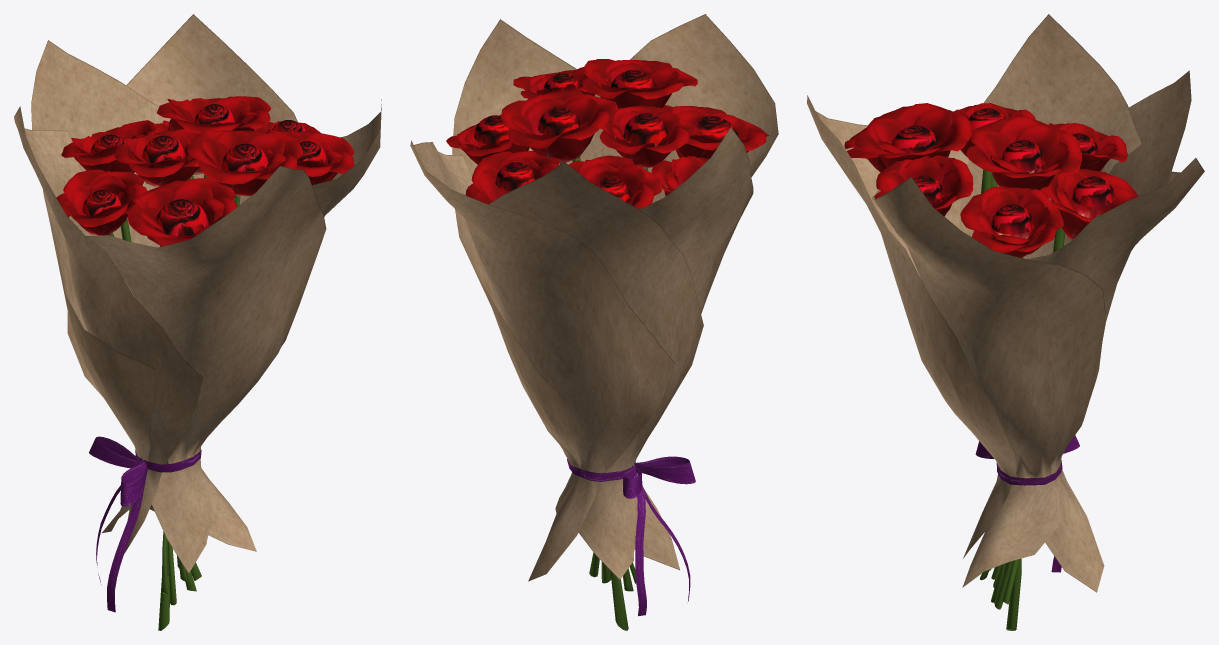
File: ROSE_LOD1.fbx
3 renders of one model, left to right at view 1: azimuth 30°, elevation 25°; view 2: azimuth 150°, elevation 25°; view 3: azimuth 270°, elevation 25°, orthographic. The views are drawn at different scales.
Parts seen in each view (by area): view 1: ROSE VOD_2; view 2: ROSE VOD_2; view 3: ROSE VOD_2.
Boxes of the visible parts, x1=… form: ROSE VOD_2: x1=14, y1=14, x2=381, y2=630; ROSE VOD_2: x1=410, y1=14, x2=778, y2=630; ROSE VOD_2: x1=807, y1=14, x2=1204, y2=630.
Bounding box in the file's own units: 38.88 × 64.95 × 42.07.
